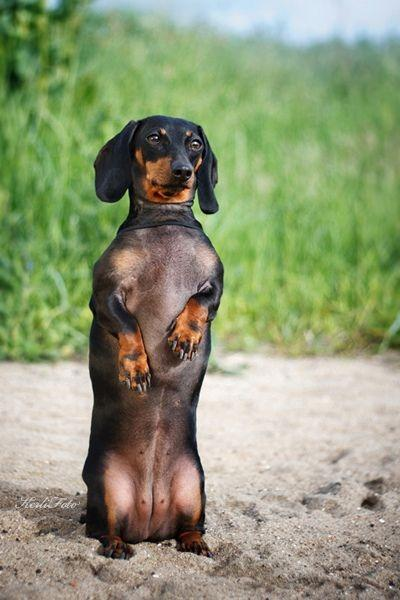adult_dog: (78, 114, 226, 560)
